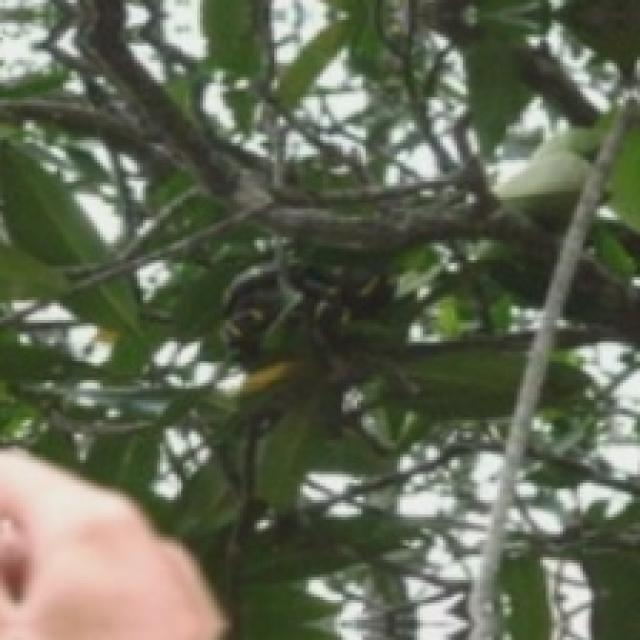mangrove cat snake: (222, 259, 394, 367)
